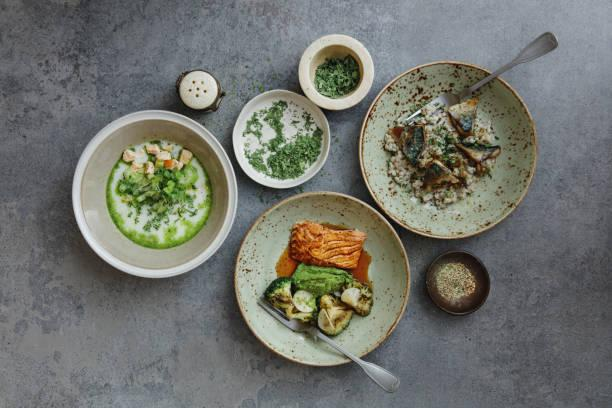Braised Crucian Carp: (367, 33, 548, 226), (239, 192, 404, 366), (71, 110, 233, 275)
